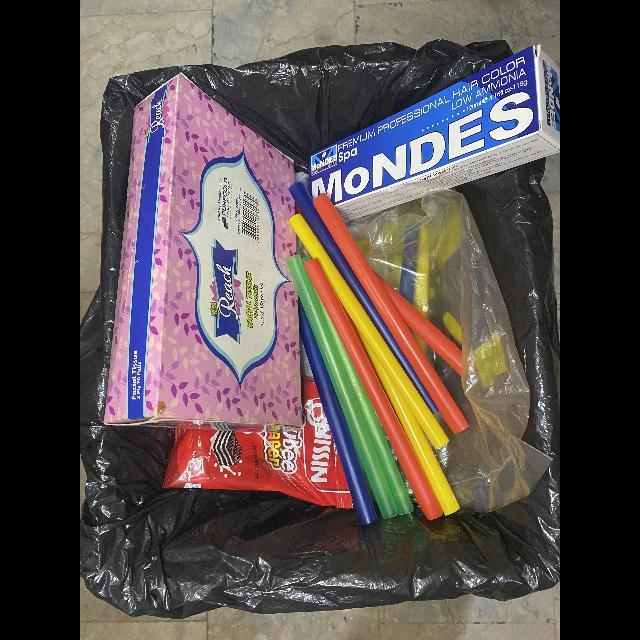cardboard: (105, 73, 302, 431), (309, 48, 560, 233)
food_wrapper: (162, 377, 353, 508)
plastic_bag: (345, 188, 551, 512), (354, 323, 461, 516)
